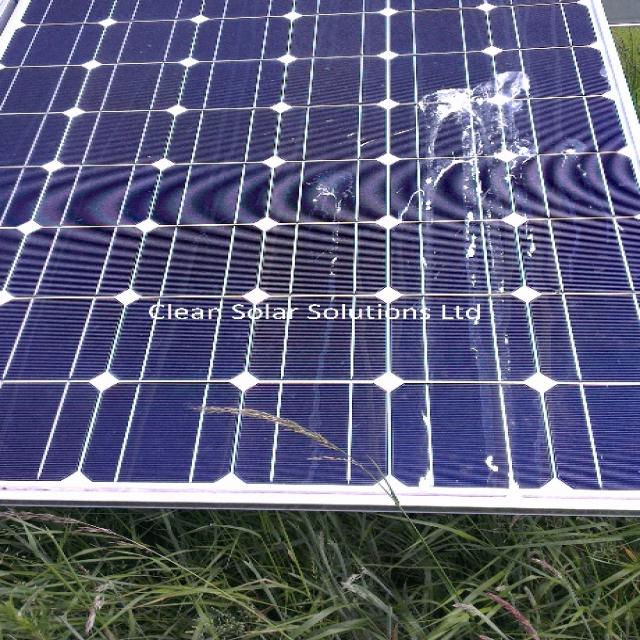faulty: (18, 0, 637, 478), (413, 61, 582, 337)
